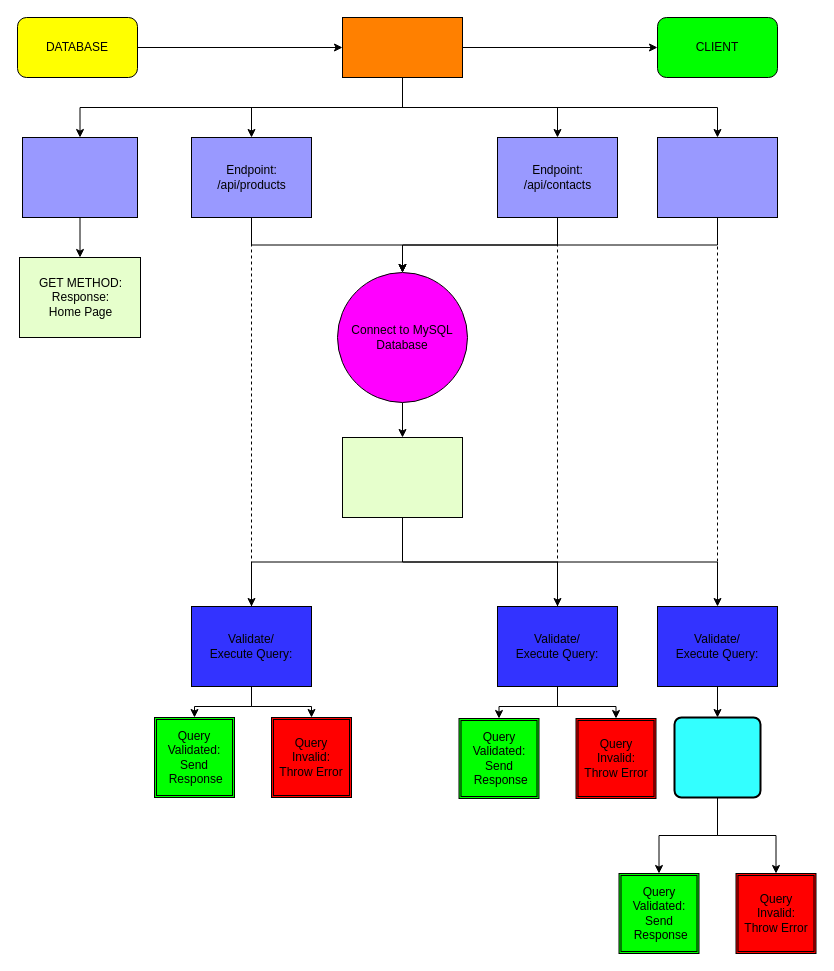
This 834x971 diagram has some shape labels left out. Here are the shapes that lost their labels. From the top down, the centre of each, then its label:
[402,47]: SERVER
[80,177]: Endpoint: /
[717,177]: Endpoint: /api/fliter/:query
[402,477]: GET METHOD Response: get Database Products
[717,757]: Check Query Against Existing IDs
